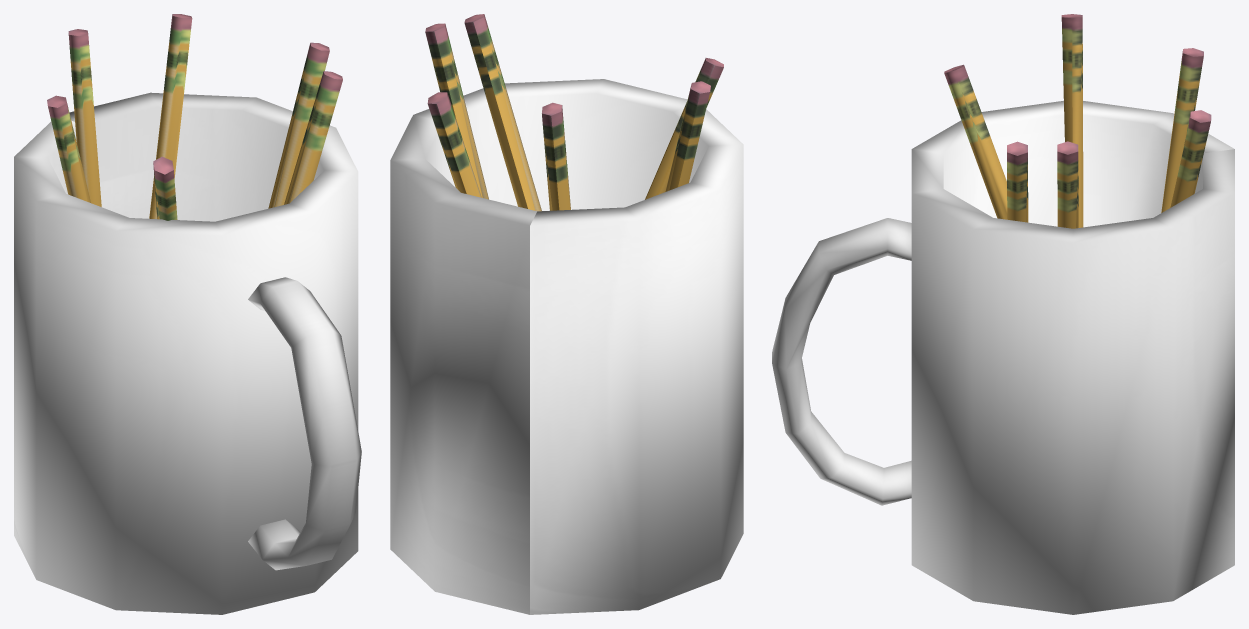
Rendered from Pencil Jar_lod2.fbx.
The picture shows the model from 3 angles, left to right: view 1: azimuth 30°, elevation 25°; view 2: azimuth 150°, elevation 25°; view 3: azimuth 270°, elevation 25°; orthographic projection. The views are drawn at different scales.
Visible parts, largest first — view 1: mug, mug_handle, pencil3, pencil4, pencil2, pencil1, pencil5, pencil6; view 2: mug, pencil1, pencil2, pencil3, pencil4, pencil5, pencil6; view 3: mug, mug_handle, pencil6, pencil5, pencil4, pencil3, pencil2, pencil1.
Boxes of the visible parts, <box> form: mug: <box>14,92,358,614</box>; mug_handle: <box>248,277,361,570</box>; pencil3: <box>149,14,192,218</box>; pencil4: <box>68,29,101,206</box>; pencil2: <box>268,42,329,208</box>; pencil1: <box>284,71,342,204</box>; pencil5: <box>47,95,90,202</box>; pencil6: <box>153,156,177,220</box>; mug: <box>390,79,743,614</box>; pencil1: <box>464,14,541,211</box>; pencil2: <box>425,23,488,199</box>; pencil3: <box>427,92,481,197</box>; pencil4: <box>542,102,570,210</box>; pencil5: <box>665,81,710,191</box>; pencil6: <box>645,58,723,199</box>; mug: <box>911,100,1234,614</box>; mug_handle: <box>772,218,911,505</box>; pencil6: <box>944,64,1007,219</box>; pencil5: <box>1061,14,1083,227</box>; pencil4: <box>1161,48,1203,212</box>; pencil3: <box>1170,110,1211,207</box>; pencil2: <box>1057,141,1078,228</box>; pencil1: <box>1007,141,1028,222</box>.
Size of the model in its own units: 1.4 by 2.14 by 1.91.
